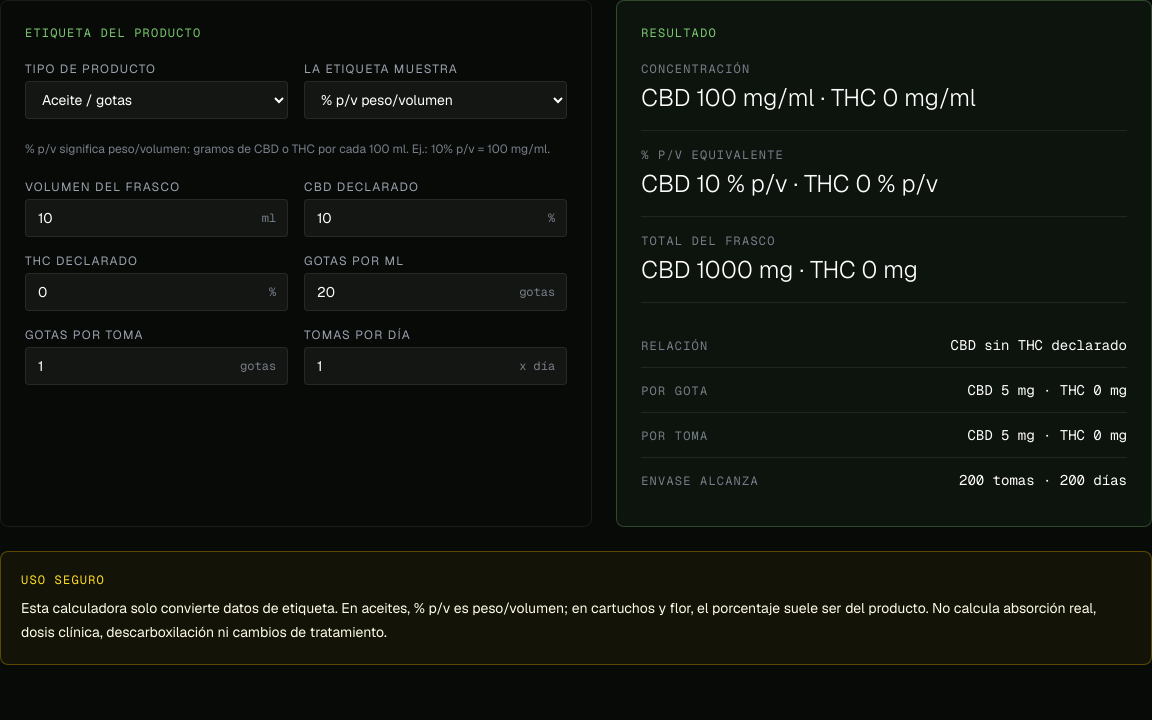
Test: CannabinoidCalculator › mantiene los inhalables como porcentaje del producto, no como p/v
This screenshot has width=1152, height=720.
Step 1. Select "Cartucho / extracto" in the dropdown labelled "Tipo de producto" → (157, 100), box [25,81,288,119]
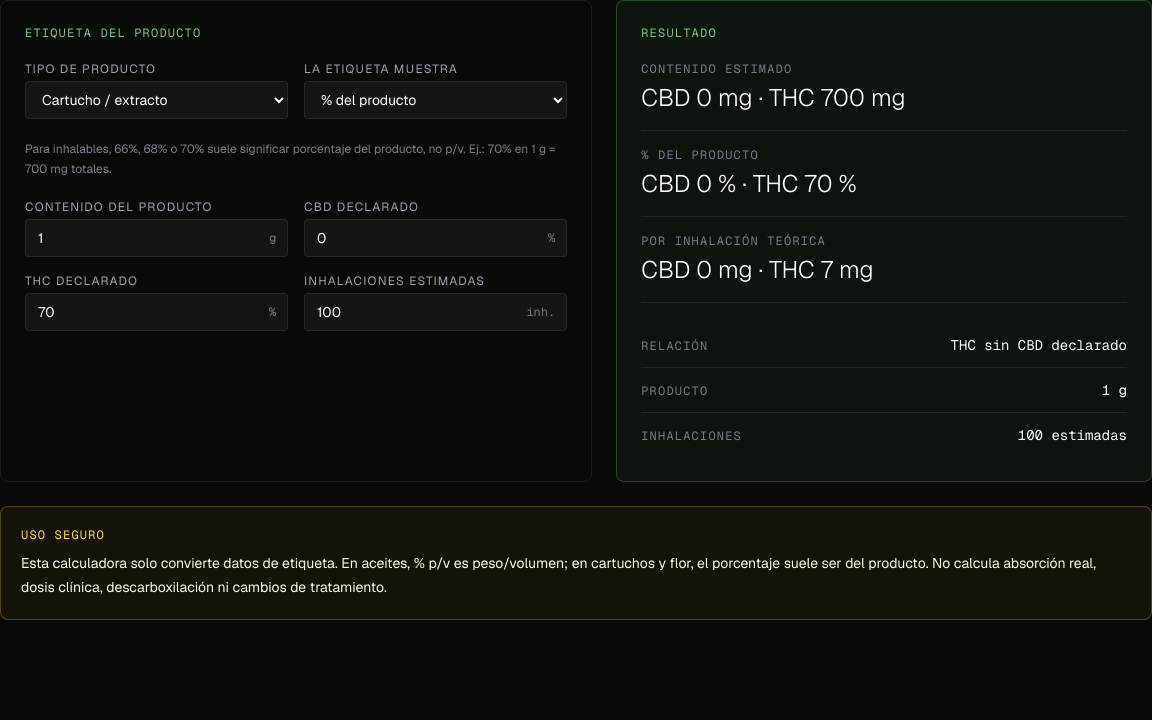
Step 2. Type "68" into the number field labelled "THC declarado" → (157, 312), box [25,293,288,331]
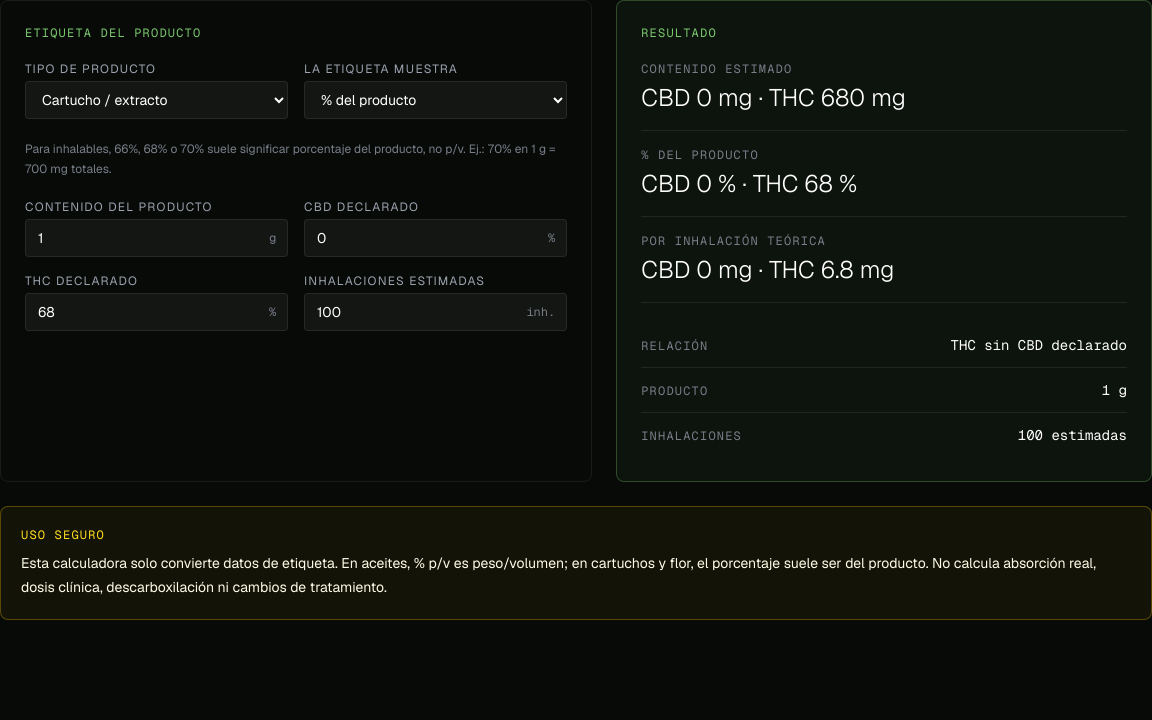
Expected: the text "% p/v equivalente" is not shown
Now the text "CBD 0 mg · THC 680 mg" is shown, box [641,82,906,113]
Now the text "CBD 0 % · THC 68 %" is shown, box [641,168,857,199]
